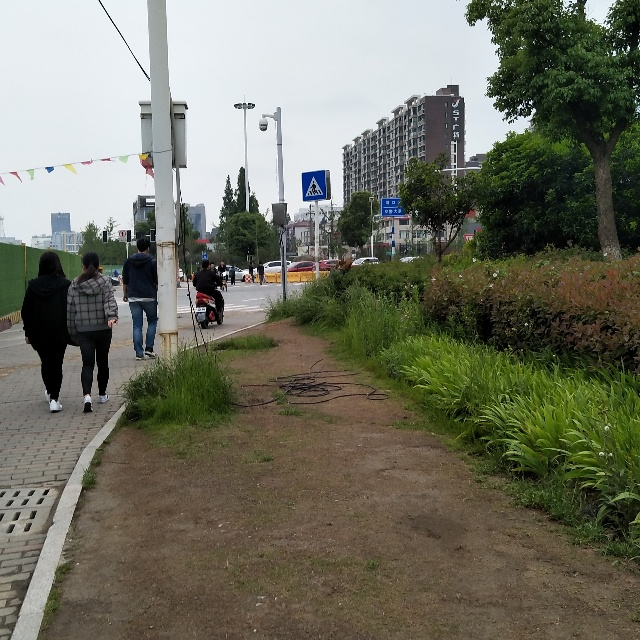crosswalk: (300, 170, 330, 202)
